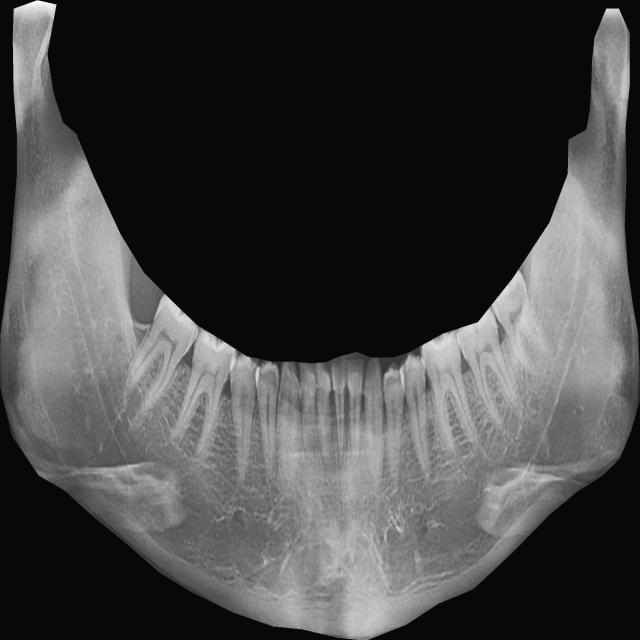mandibula: (0, 0, 640, 640)
